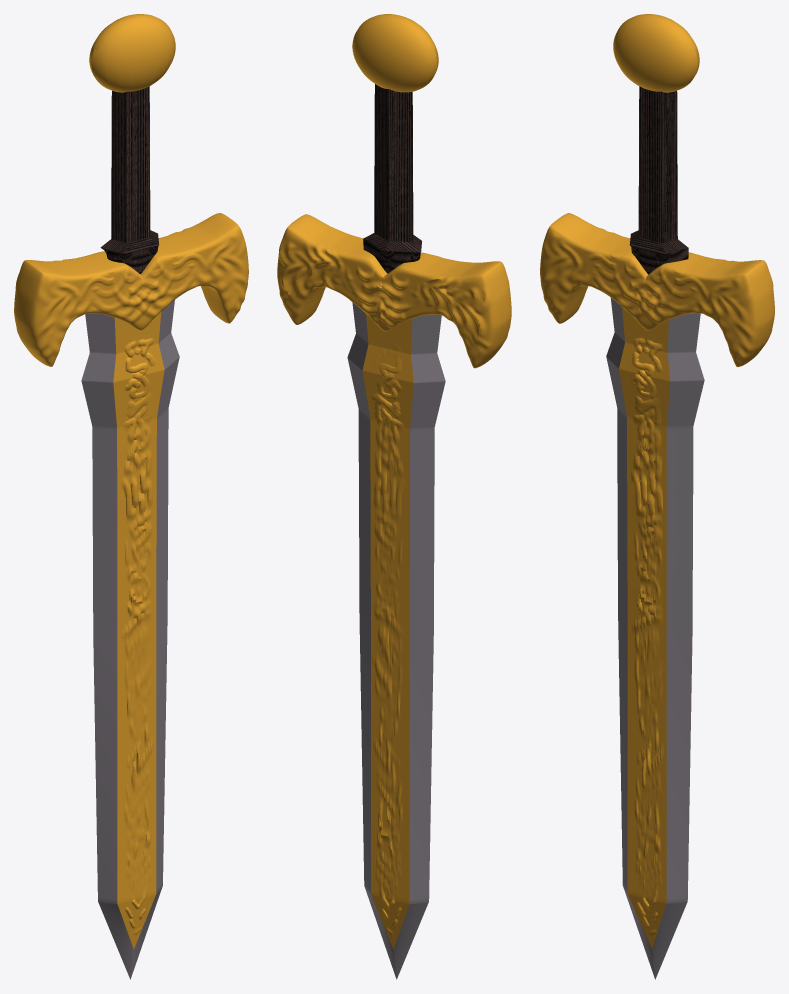
The model's file is Golden Sword.glb.
The picture shows the model from 3 angles, left to right: view 1: azimuth 30°, elevation 25°; view 2: azimuth 150°, elevation 25°; view 3: azimuth 330°, elevation 25°; orthographic projection.
Visible parts, largest first — view 1: Blade Mesh; view 2: Blade Mesh; view 3: Blade Mesh.
Boxes of the visible parts, <box> form: Blade Mesh: <box>14,14,248,979</box>; Blade Mesh: <box>277,14,511,979</box>; Blade Mesh: <box>540,14,774,979</box>.
Bounding box in the file's own units: 0.2127 × 0.8887 × 0.047.
3 materials, 1 textured.
